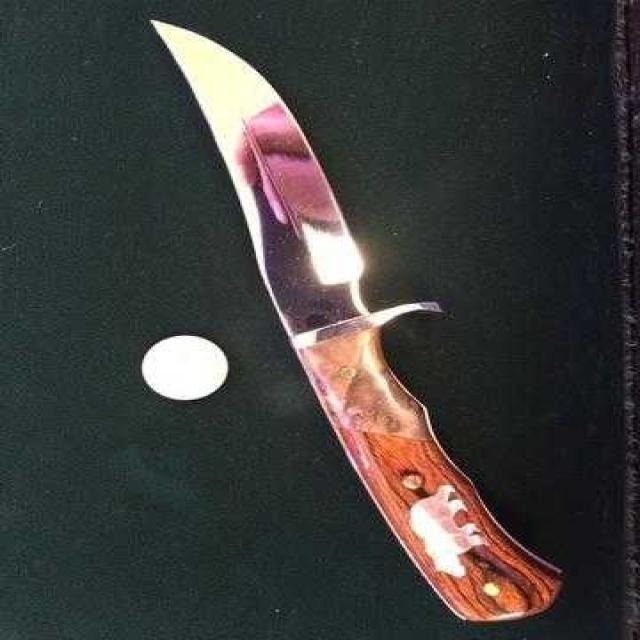Knife: (146, 12, 573, 640)
